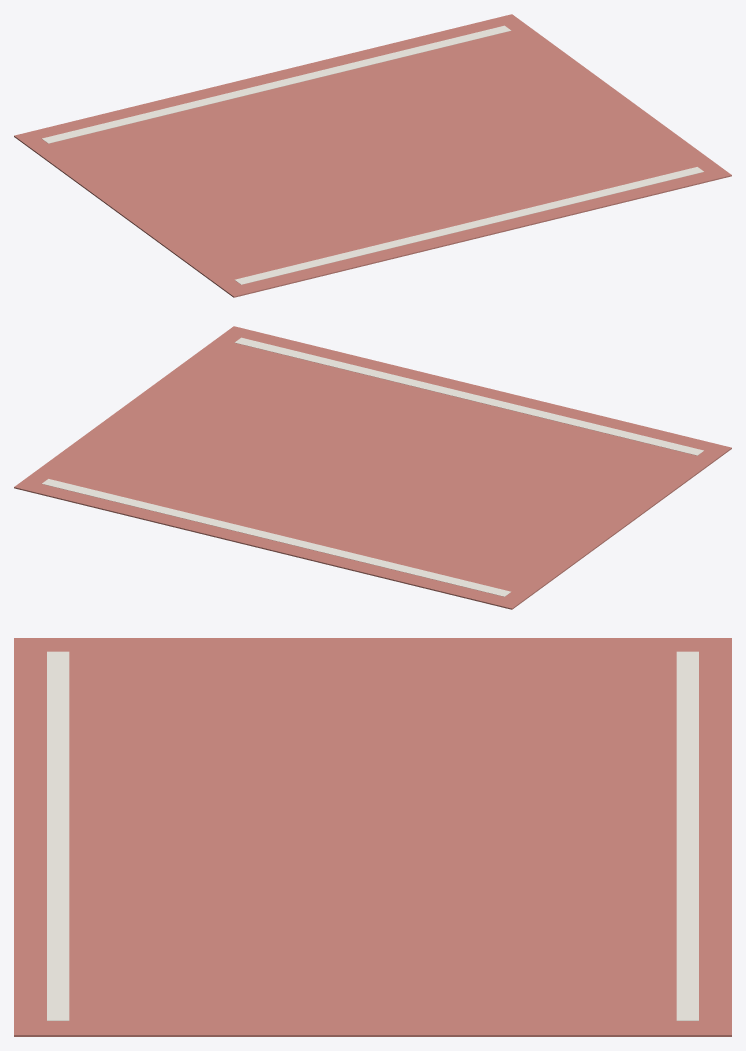
Rendered from rug_a.glb.
3 views of the same model, one above another, from view 1: azimuth 30°, elevation 25°; view 2: azimuth 150°, elevation 25°; view 3: azimuth 270°, elevation 25° (orthographic). The views are drawn at different scales.
Visible parts, largest first — view 1: rug_a_rug, rug_a_cream; view 2: rug_a_rug, rug_a_cream; view 3: rug_a_rug, rug_a_cream.
Boxes of the visible parts, x1,y1,x2,y2 form: rug_a_rug: [14, 14, 731, 297]; rug_a_cream: [42, 25, 703, 284]; rug_a_rug: [14, 326, 731, 609]; rug_a_cream: [42, 337, 703, 596]; rug_a_rug: [14, 638, 731, 1036]; rug_a_cream: [47, 651, 698, 1020].
Bounding box in the file's own units: 3.4 × 0.0095 × 2.6.
